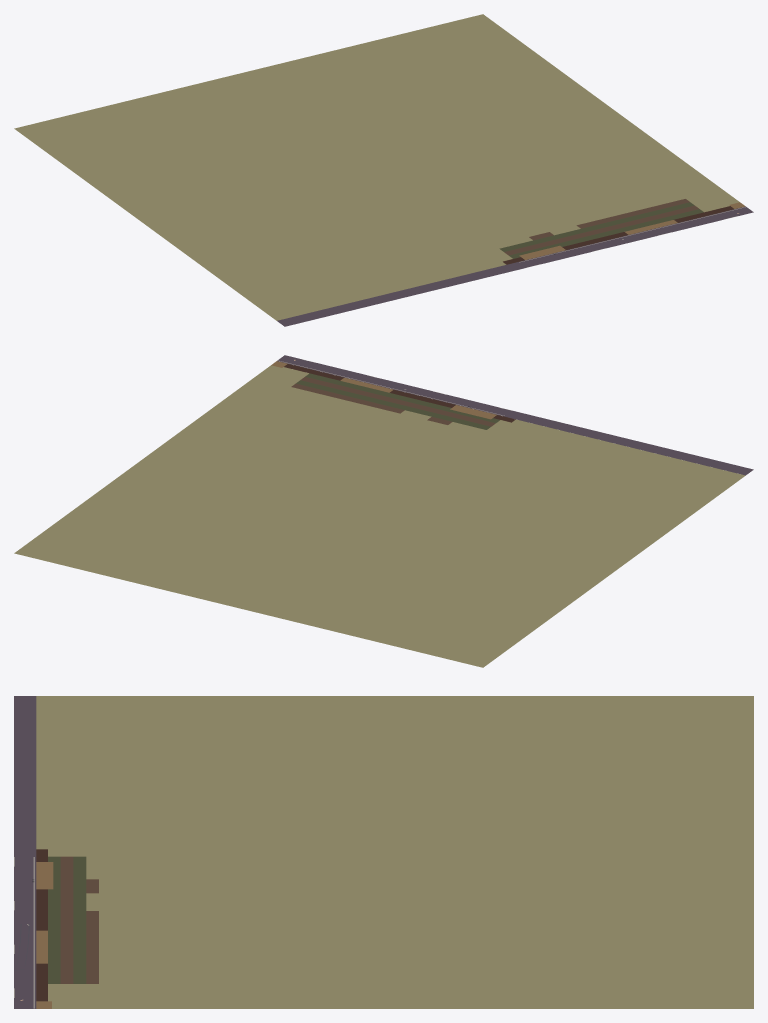
The model's file is cure-0-1.glb.
3 views of the same model, one above another, from view 1: azimuth 30°, elevation 25°; view 2: azimuth 150°, elevation 25°; view 3: azimuth 270°, elevation 25° (orthographic). The views are drawn at different scales.
Parts seen in each view (by area): view 1: cure-0-1; view 2: cure-0-1; view 3: cure-0-1.
Part boxes in pixels (box(x1,y1,x2,y2)): cure-0-1: box(14, 14, 753, 326); cure-0-1: box(14, 355, 753, 667); cure-0-1: box(14, 696, 753, 1008).
Bounding box in the file's own units: 100 × 0.015 × 100.
